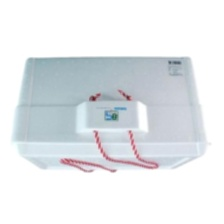foam_box: (5, 51, 215, 179)
